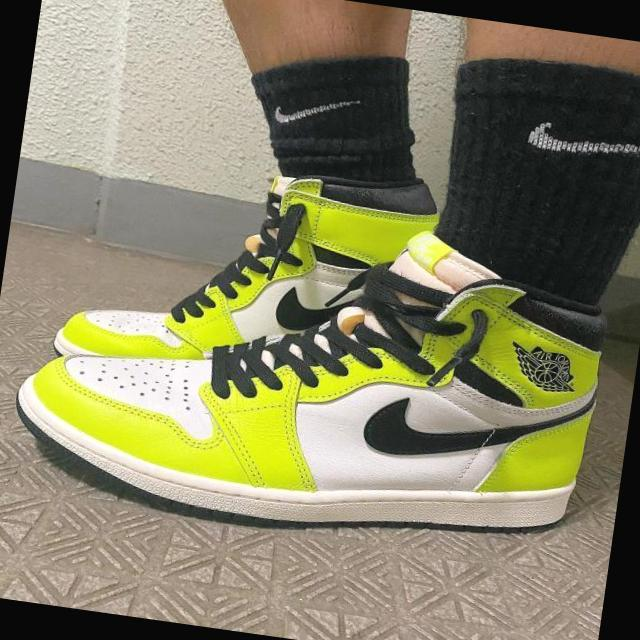nike_original_jordan: (8, 200, 626, 572), (54, 132, 445, 410)
